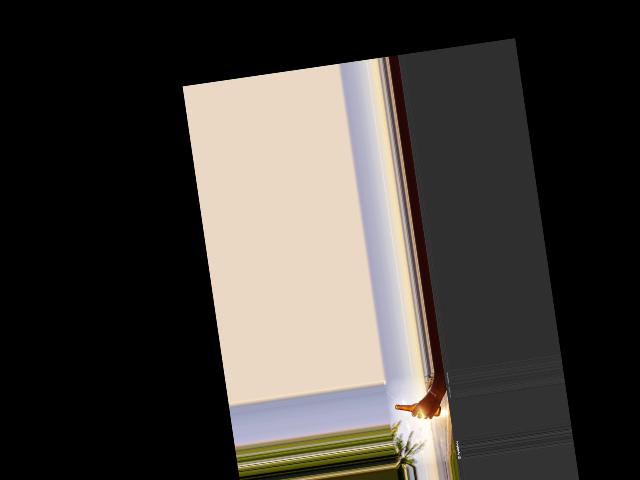beer: (395, 397, 442, 421)
